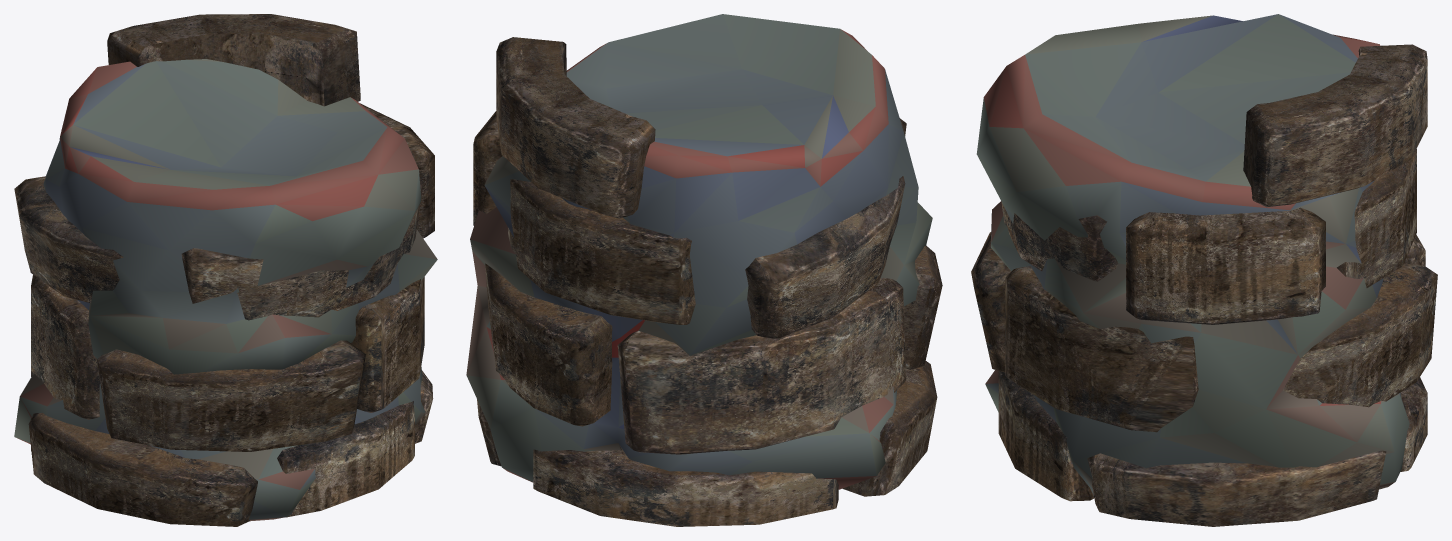
Rendered from taureg_pillar_broken.dae.
The picture shows the model from 3 angles, left to right: view 1: azimuth 30°, elevation 25°; view 2: azimuth 150°, elevation 25°; view 3: azimuth 270°, elevation 25°; orthographic projection. The views are drawn at different scales.
Visible parts, largest first — view 1: LO, Mesh_2; view 2: LO, Mesh_2; view 3: LO, Mesh_2.
Boxes of the visible parts, x1,y1,x2,y2 form: LO: (14, 14, 434, 526); Mesh_2: (14, 59, 437, 521); LO: (473, 37, 942, 526); Mesh_2: (466, 14, 932, 489); LO: (971, 44, 1437, 526); Mesh_2: (976, 14, 1409, 494).
Size of the model in its own units: 2.05 by 1.9 by 2.01.
